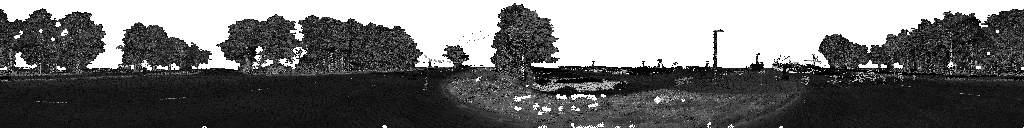light_pole: (713, 30, 723, 80), (944, 31, 953, 76), (346, 40, 354, 74), (812, 54, 815, 70), (756, 54, 760, 64)
traffic_pole: (776, 56, 790, 83), (188, 63, 194, 74)
